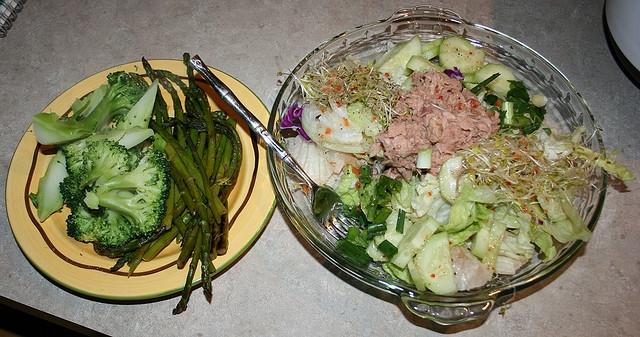asparagus: (148, 118, 227, 216), (164, 142, 212, 300), (180, 118, 232, 247), (162, 118, 222, 224), (154, 69, 206, 161), (185, 121, 238, 186), (186, 87, 216, 182), (172, 227, 204, 316), (154, 74, 186, 151), (142, 212, 192, 261), (173, 152, 207, 222), (170, 163, 197, 218), (162, 177, 175, 230), (217, 198, 229, 254)
broccoli: (31, 70, 146, 146), (65, 126, 154, 182), (80, 138, 132, 187), (37, 148, 71, 222), (115, 78, 159, 132), (61, 130, 126, 160), (93, 208, 133, 247), (66, 214, 94, 241)
cucumber: (391, 214, 440, 269), (415, 232, 458, 294), (365, 209, 412, 262), (374, 34, 422, 79), (460, 63, 519, 98), (439, 156, 464, 204), (439, 50, 485, 74), (438, 36, 478, 56), (470, 223, 490, 260), (406, 55, 446, 71), (408, 257, 426, 291), (422, 36, 446, 56), (463, 82, 488, 96), (422, 46, 440, 60), (391, 67, 403, 78)
lettuce: (538, 194, 592, 243), (450, 245, 493, 291), (495, 231, 535, 275), (528, 222, 562, 262), (470, 208, 494, 259), (482, 221, 507, 269), (391, 176, 421, 213), (411, 187, 441, 218), (458, 182, 498, 204), (492, 202, 520, 228), (516, 212, 534, 250)
